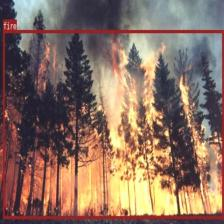fire: (3, 30, 223, 218)
